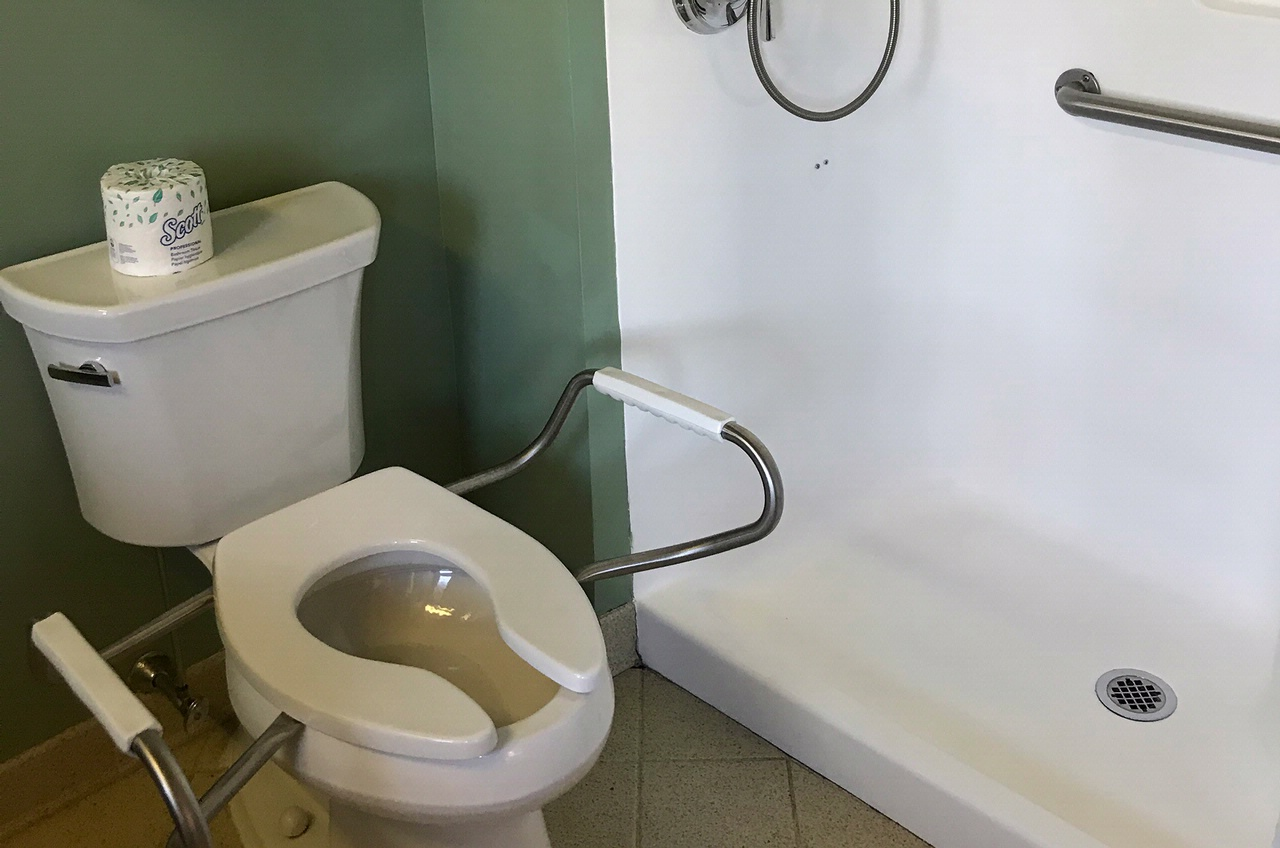restroom_assist_bar: (445, 363, 840, 584), (26, 584, 305, 848), (1033, 58, 1280, 163)
toilet: (195, 463, 618, 848)
toilet_handle: (43, 355, 122, 391)
